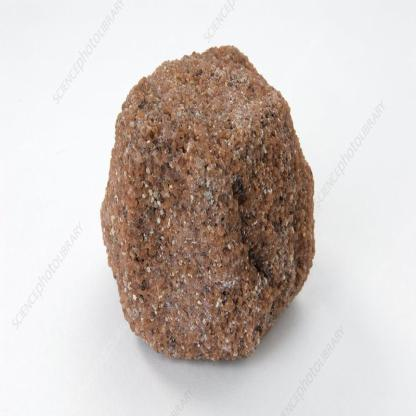Sedimentary_Sandstone: (94, 39, 318, 365)
